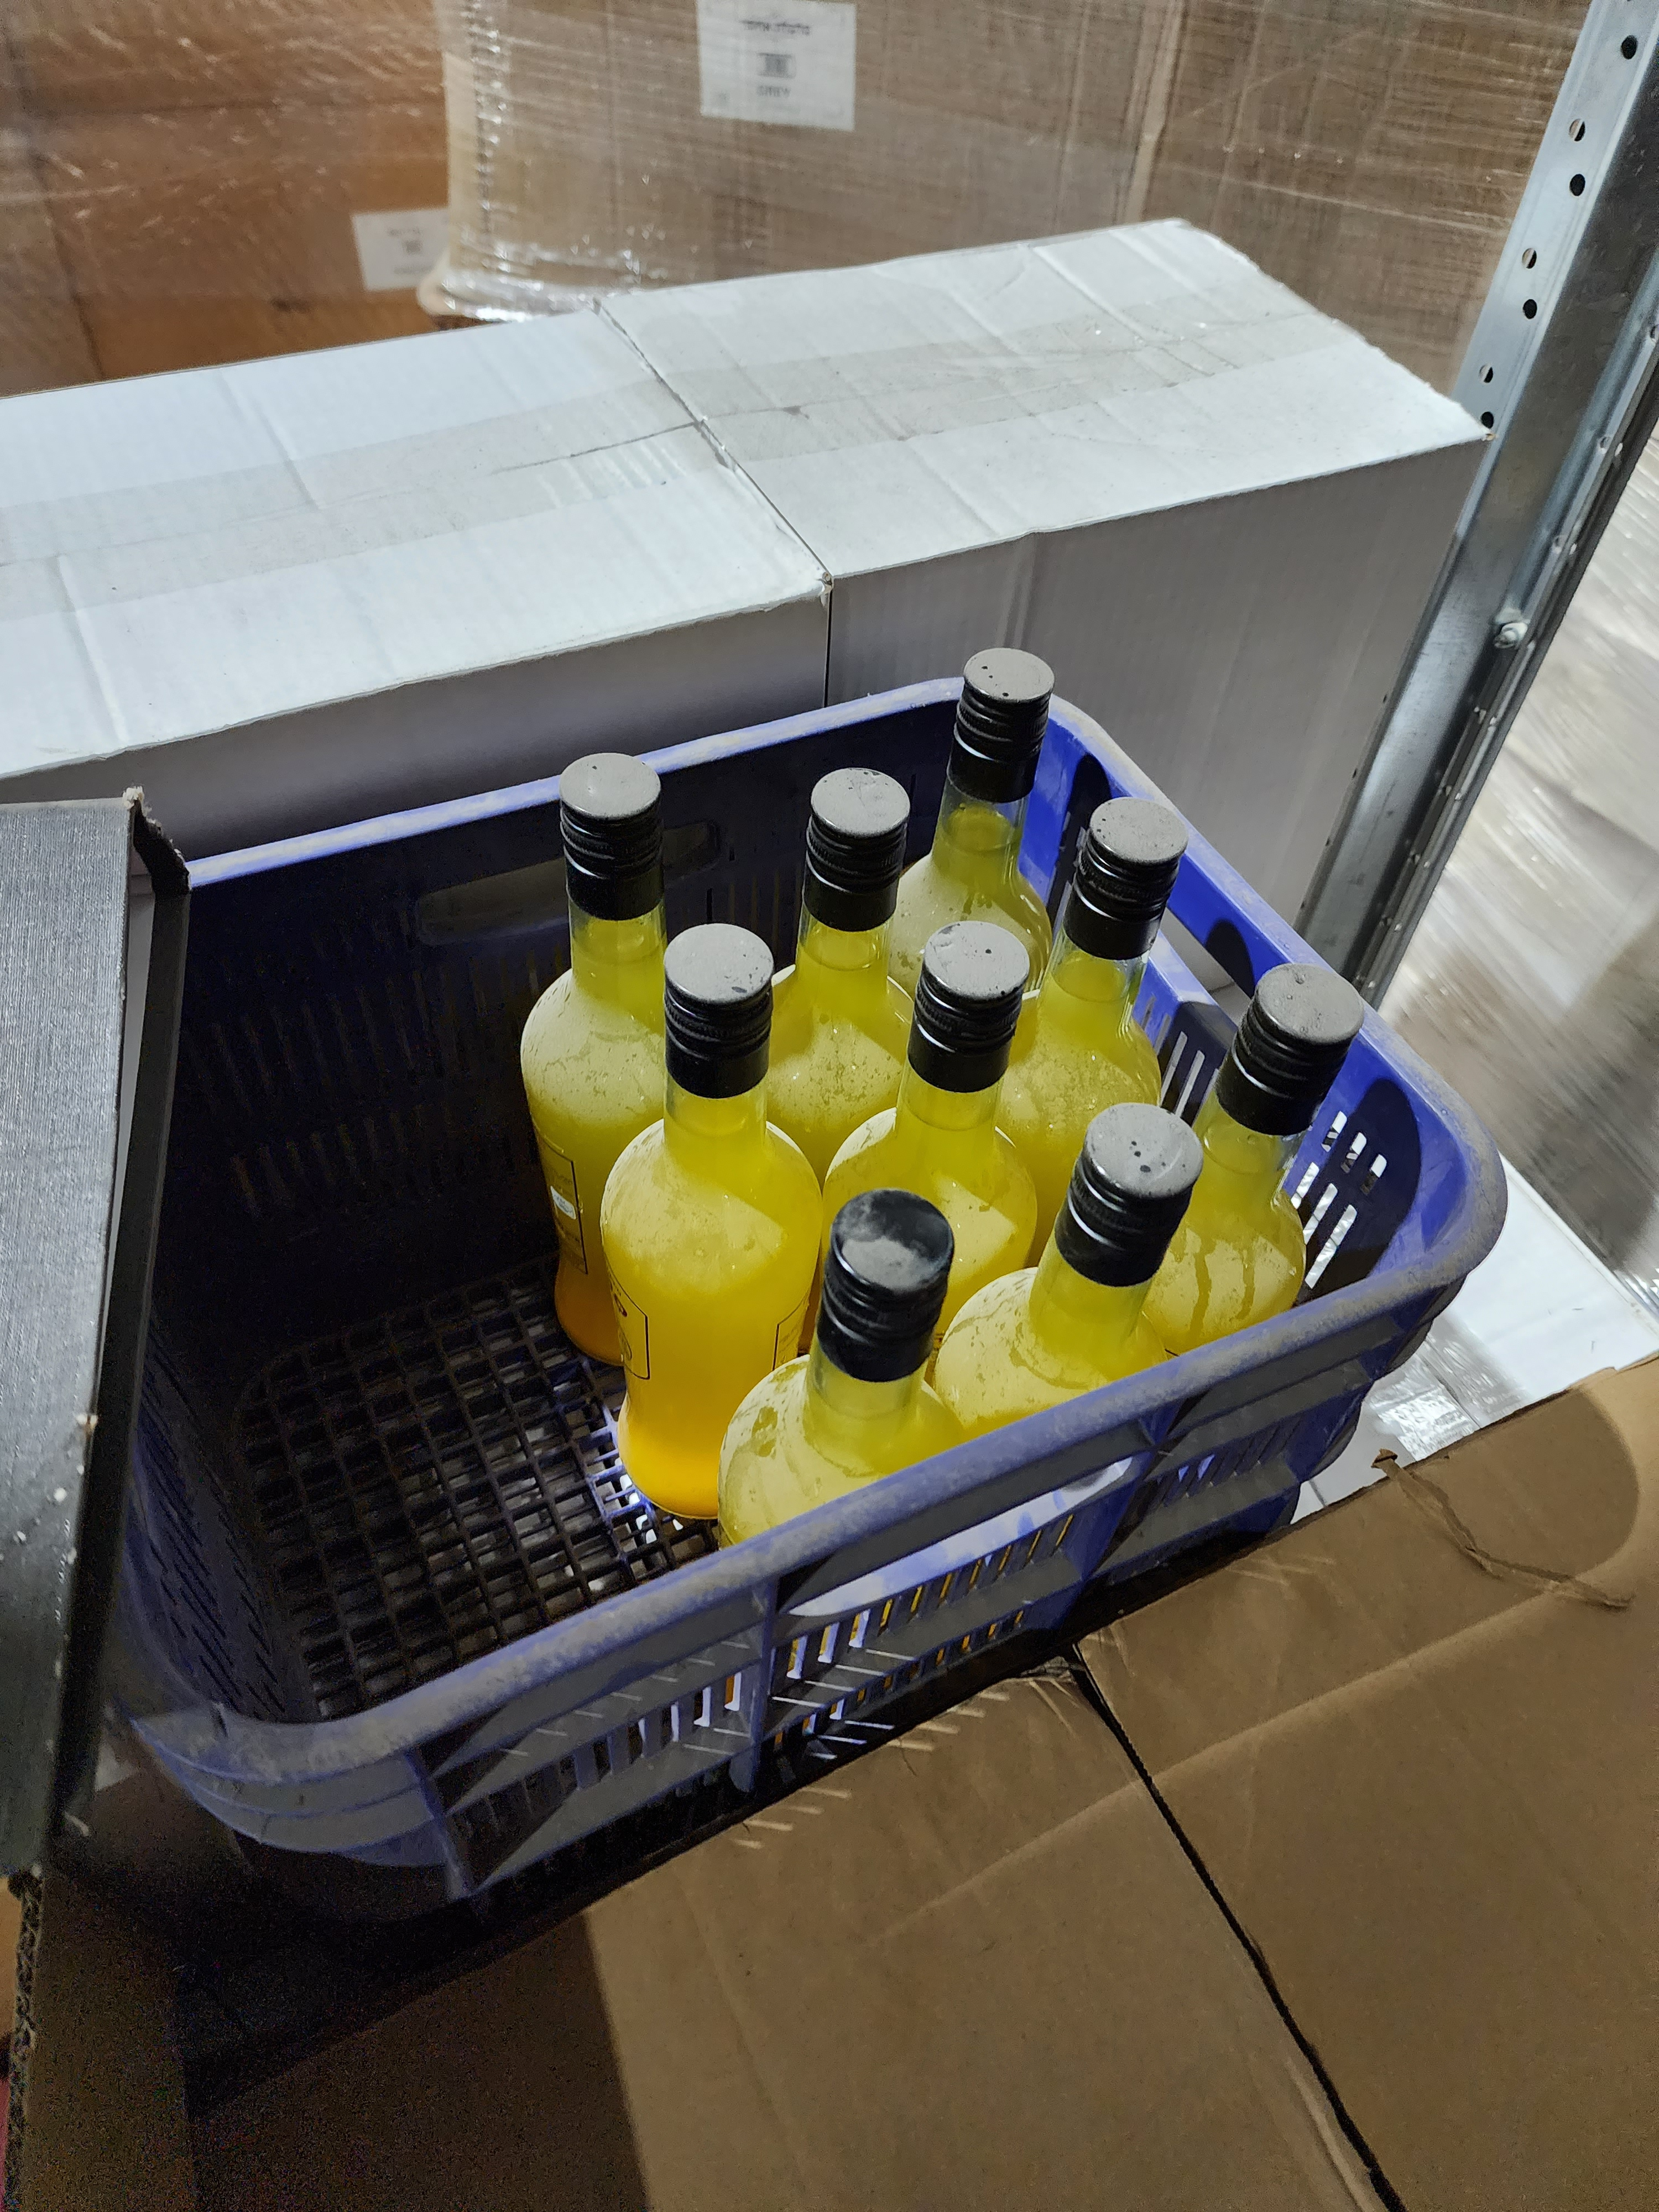bottle: (523, 742, 697, 1383), (727, 1141, 993, 1554), (1011, 1096, 1239, 1409), (1019, 784, 1199, 1109), (1204, 946, 1352, 1275), (896, 914, 1065, 1200), (929, 599, 1072, 914), (786, 732, 910, 1042)
